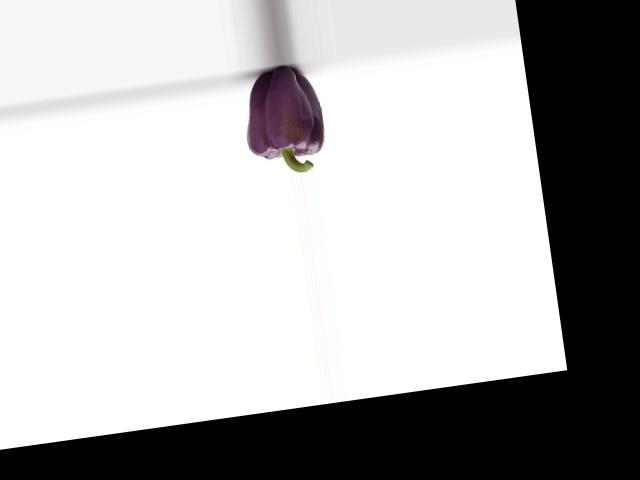bell_pepper: (232, 62, 338, 178)
